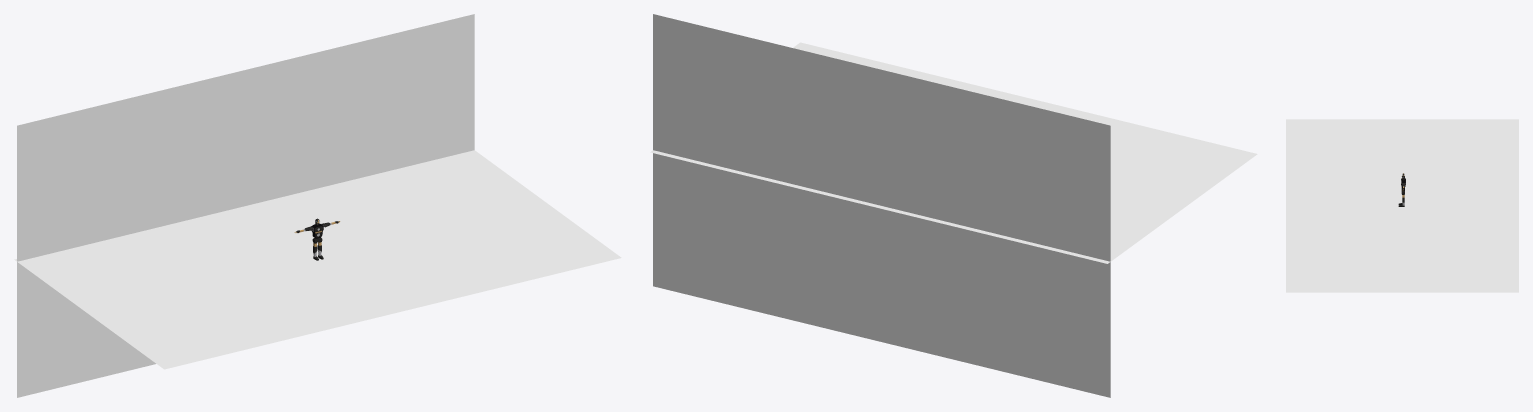
Rendered from aristaeus_good.fbx.
3 renders of one model, left to right at view 1: azimuth 30°, elevation 25°; view 2: azimuth 150°, elevation 25°; view 3: azimuth 270°, elevation 25°, orthographic. The views are drawn at different scales.
Visible parts, largest first — view 1: Plane002, Plane001; view 2: Plane002, Plane001; view 3: Plane001.
Part boxes in pixels (left/top/right/bottom): Plane002: left=17, top=14, right=474, bottom=397; Plane001: left=14, top=150, right=621, bottom=369; Plane002: left=653, top=14, right=1110, bottom=397; Plane001: left=650, top=42, right=1257, bottom=263; Plane001: left=1286, top=119, right=1518, bottom=292.
Size of the model in its own units: 282 by 161 by 161.
6 materials, 6 textured.
